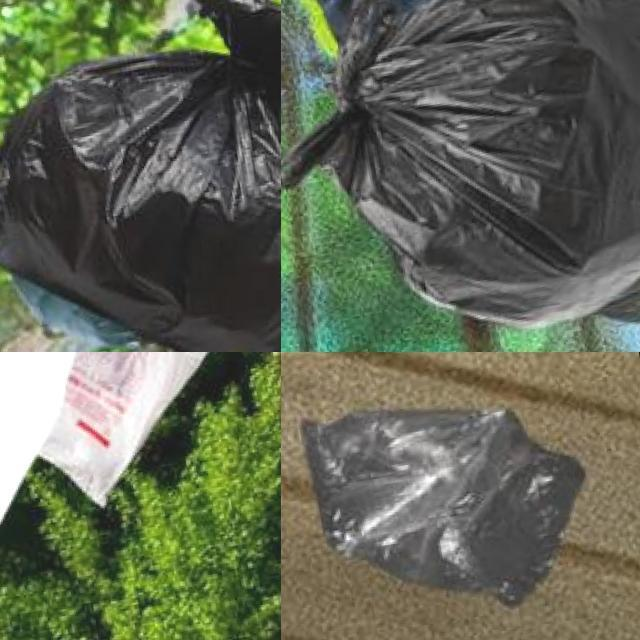waste: (288, 0, 640, 352), (0, 0, 281, 352), (310, 372, 604, 622), (0, 352, 281, 515), (0, 352, 129, 640)
